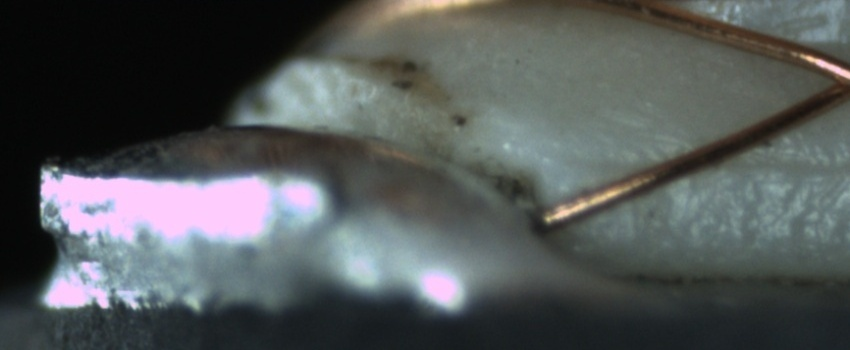CL: (800, 52, 850, 114)
DL: (573, 132, 844, 197)
